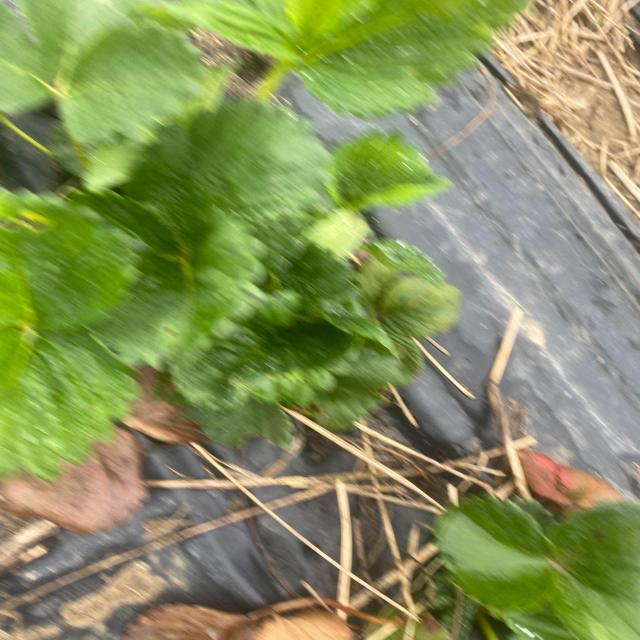flower: (0, 4, 460, 434)
